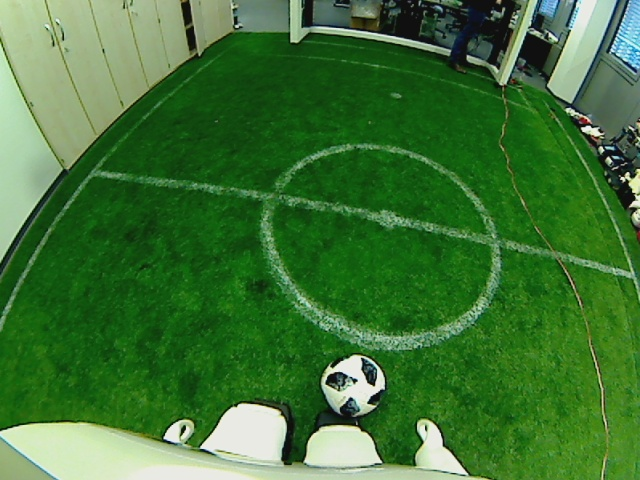ball: (320, 353, 386, 417)
